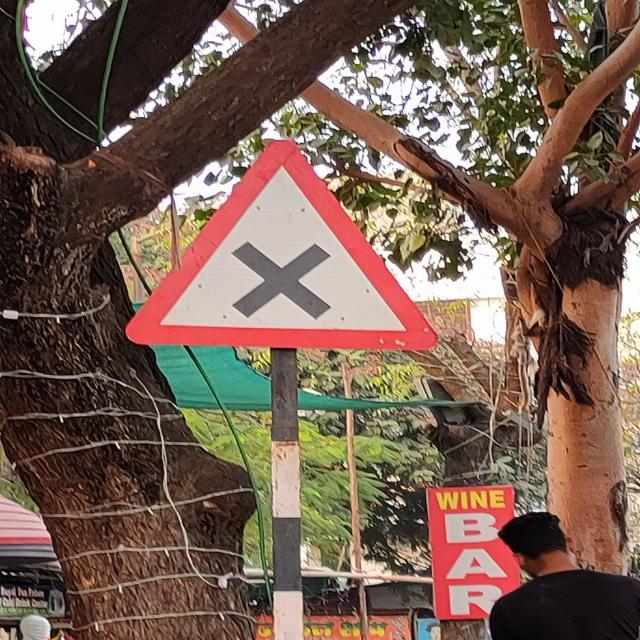cross_road: (126, 142, 438, 352)
